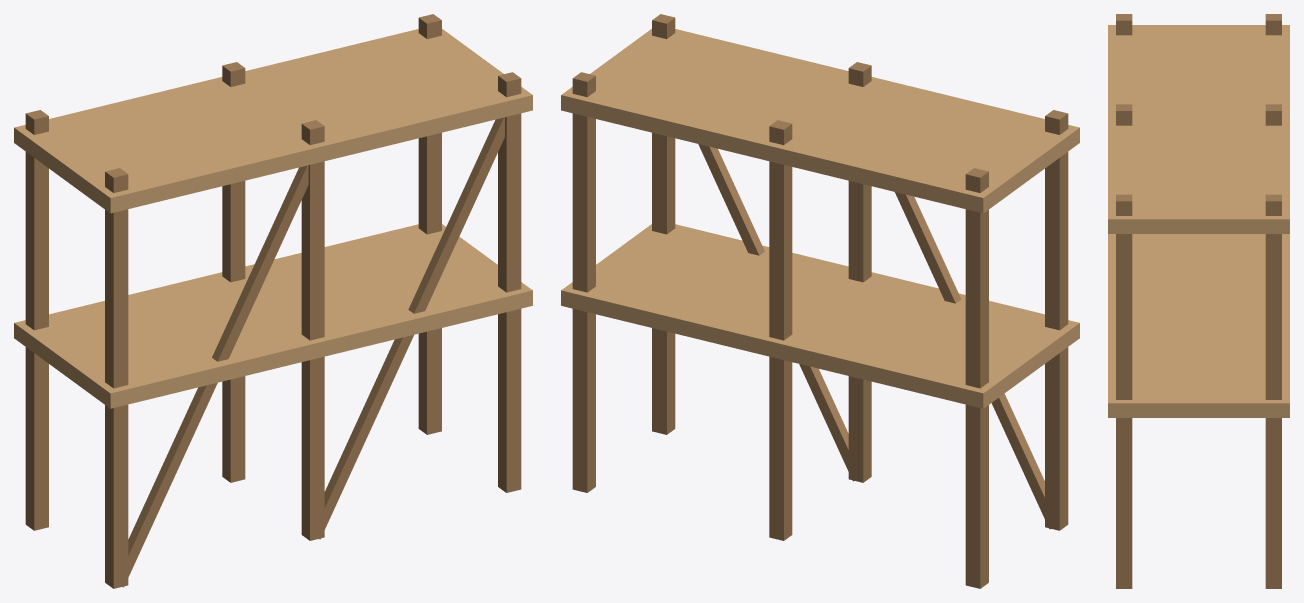
File: construction-scaffold.glb
The picture shows the model from 3 angles, left to right: view 1: azimuth 30°, elevation 25°; view 2: azimuth 150°, elevation 25°; view 3: azimuth 270°, elevation 25°; orthographic projection. The views are drawn at different scales.
Visible parts, largest first — view 1: construction-scaffold; view 2: construction-scaffold; view 3: construction-scaffold.
Part boxes in pixels (x1=…): construction-scaffold: x1=14, y1=14, x2=532, y2=588; construction-scaffold: x1=561, y1=14, x2=1079, y2=588; construction-scaffold: x1=1108, y1=14, x2=1289, y2=588.
Size of the model in its own units: 4.3 by 4.02 by 1.7.
